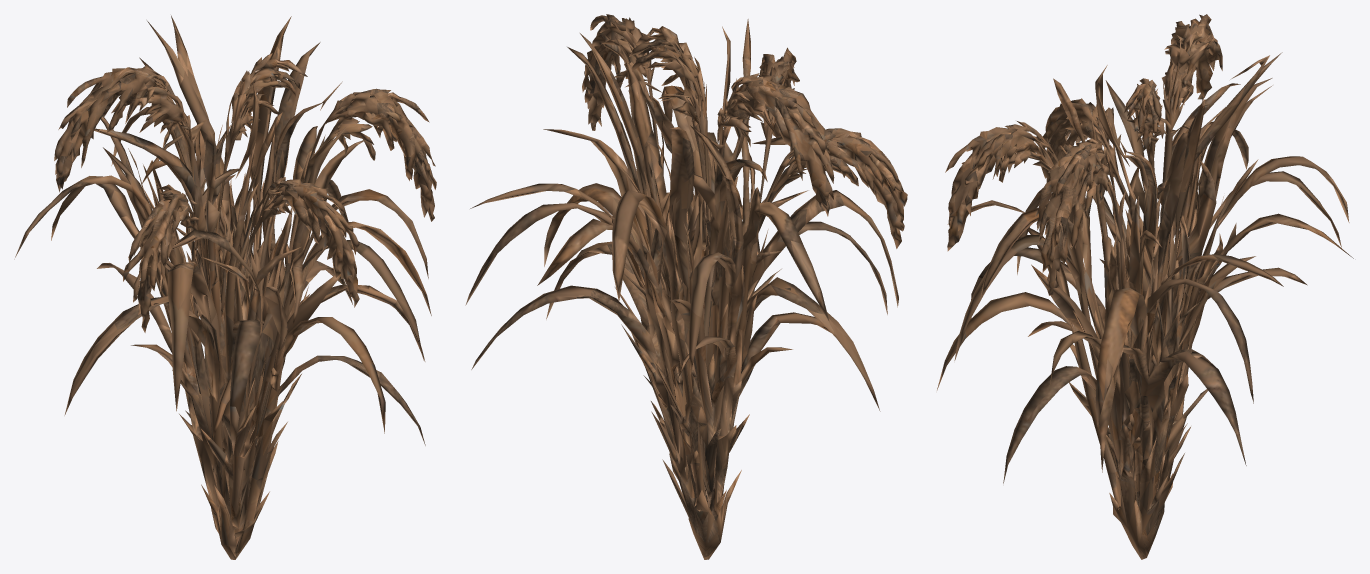
Rendered from SM_Rice_Plant_Meshy_LOD_0.fbx.
3 renders of one model, left to right at view 1: azimuth 30°, elevation 25°; view 2: azimuth 150°, elevation 25°; view 3: azimuth 270°, elevation 25°, orthographic. The views are drawn at different scales.
Parts seen in each view (by area): view 1: Rice_Plant_Meshy_LOD0; view 2: Rice_Plant_Meshy_LOD0; view 3: Rice_Plant_Meshy_LOD0.
Boxes of the visible parts, <box> form: Rice_Plant_Meshy_LOD0: <box>14,15,436,559</box>; Rice_Plant_Meshy_LOD0: <box>465,14,907,559</box>; Rice_Plant_Meshy_LOD0: <box>937,14,1353,559</box>.
Bounding box in the file's own units: 0.6477 × 0.9 × 0.6781.
